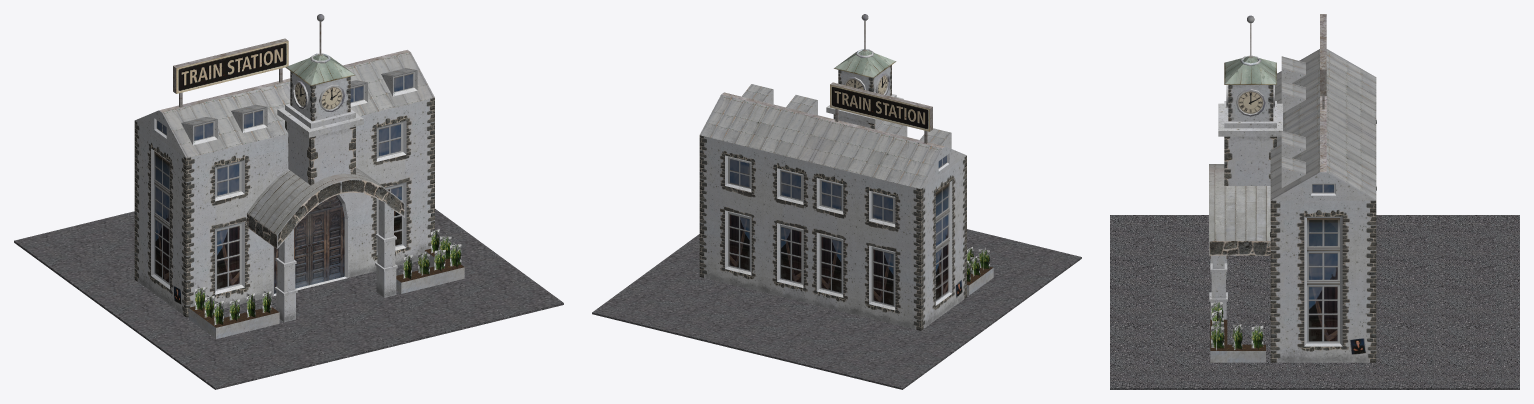
3 renders of one model, left to right at view 1: azimuth 30°, elevation 25°; view 2: azimuth 150°, elevation 25°; view 3: azimuth 270°, elevation 25°, orthographic. The views are drawn at different scales.
Visible parts, largest first — view 1: hom; view 2: hom; view 3: hom.
Part boxes in pixels (x1,y1,x2,y2): hom: (14, 14, 563, 389); hom: (592, 14, 1081, 389); hom: (1110, 14, 1519, 389).
Bounding box in the file's own units: 0.7698 × 0.5961 × 0.7698.
1 material, 1 textured.
